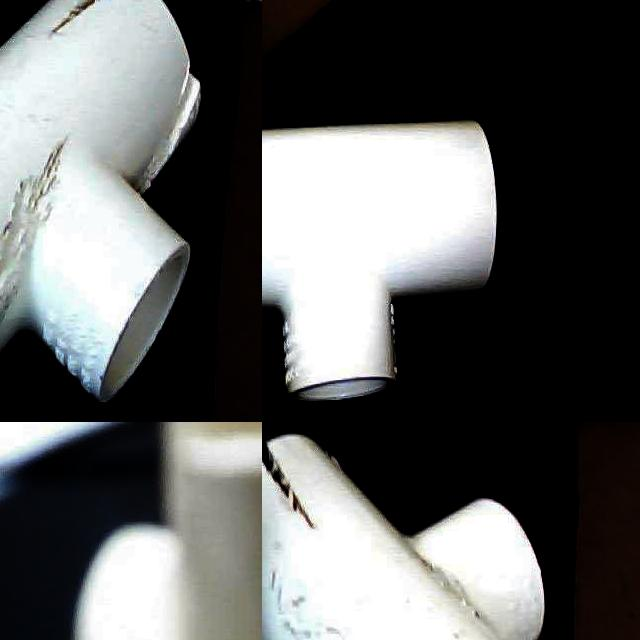Defective: (0, 146, 79, 330), (125, 51, 209, 189), (262, 443, 335, 562), (234, 424, 262, 640), (36, 0, 148, 52)
T Joint: (0, 0, 203, 409), (262, 120, 499, 404), (262, 432, 548, 640)
